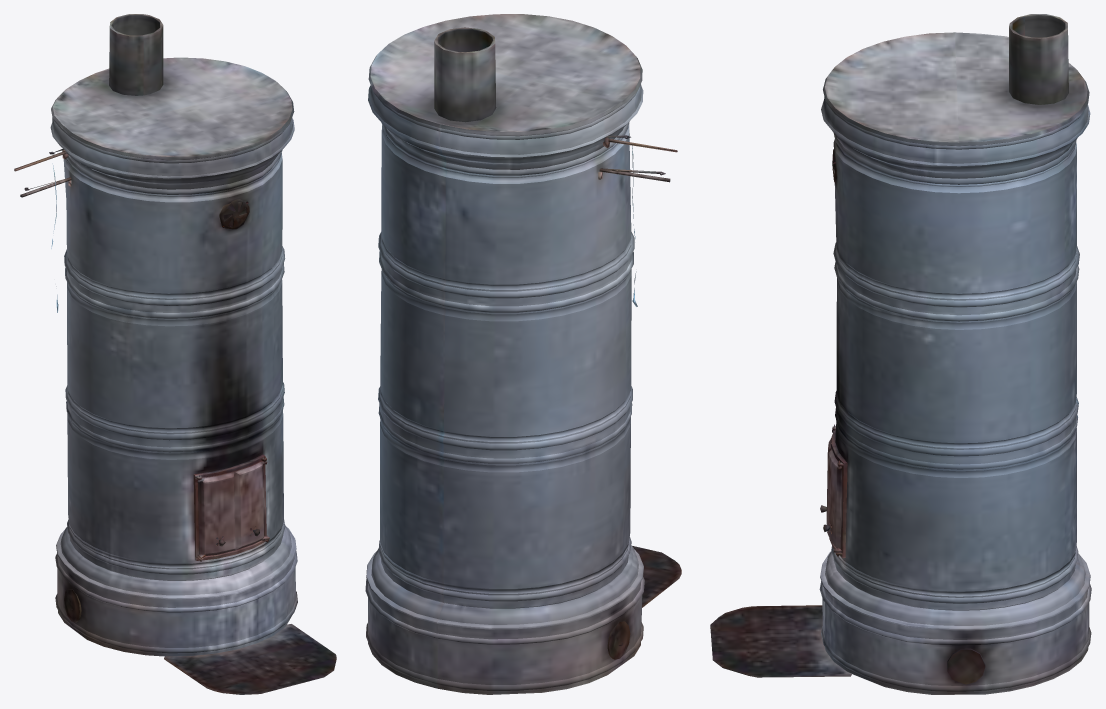
The model's file is stove-masonry.lite.9ccd77d9.glb.
3 renders of one model, left to right at view 1: azimuth 30°, elevation 25°; view 2: azimuth 150°, elevation 25°; view 3: azimuth 270°, elevation 25°, orthographic. The views are drawn at different scales.
Parts seen in each view (by area): view 1: model; view 2: model; view 3: model.
Boxes of the visible parts, left/top/right/bottom form: model: left=14, top=14, right=336, bottom=694; model: left=365, top=14, right=681, bottom=694; model: left=710, top=14, right=1091, bottom=694.
Size of the model in its own units: 1.17 by 2.36 by 1.33.
1 material, 1 textured.
